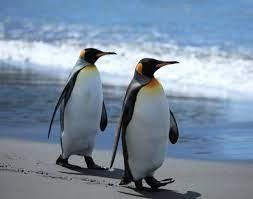king: (109, 53, 196, 191), (43, 38, 117, 172)
